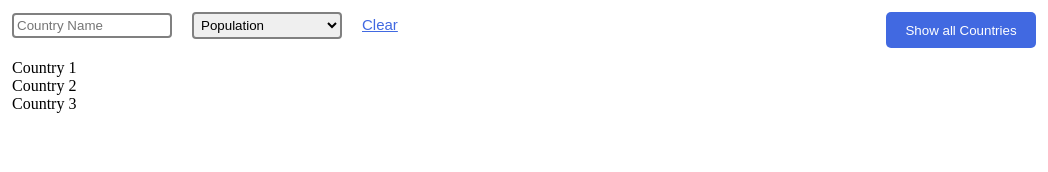
Test: FilterTable › filters the data by country name correctly
Type "Country 2" into the field at (92, 26), box [12, 13, 172, 38]
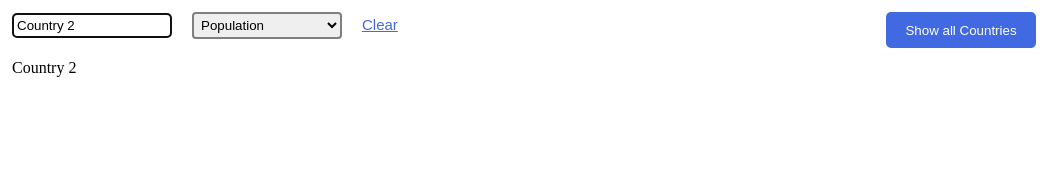
Expected: the list item "Country 2" is shown, [12, 59, 76, 76]
Result: the list item "Country 1" is gone
Result: the list item "Country 3" is gone
